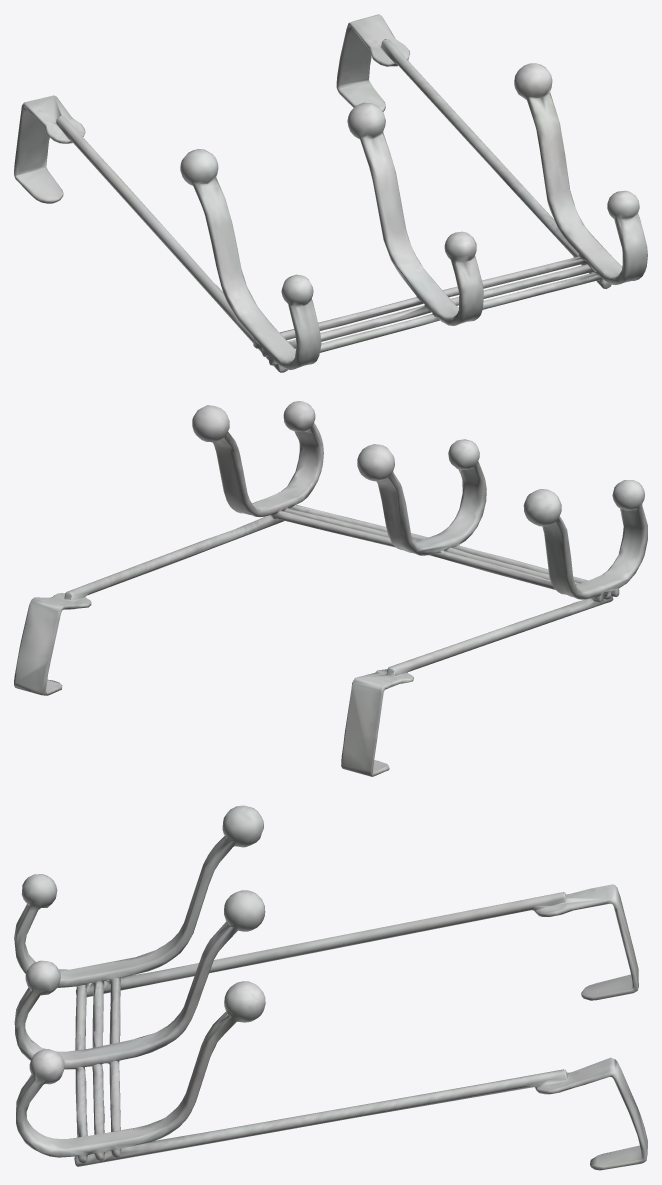
Rendered from InterDesign_Over_Door-high.glb.
3 views of the same model, one above another, from view 1: azimuth 30°, elevation 25°; view 2: azimuth 150°, elevation 25°; view 3: azimuth 270°, elevation 25° (orthographic). The views are drawn at different scales.
Parts seen in each view (by area): view 1: InterDesign_Over_Door; view 2: InterDesign_Over_Door; view 3: InterDesign_Over_Door.
Boxes of the visible parts, bbox=[...] form: InterDesign_Over_Door: bbox=[14, 14, 647, 372]; InterDesign_Over_Door: bbox=[14, 401, 647, 776]; InterDesign_Over_Door: bbox=[14, 805, 647, 1170].
Size of the model in its own units: 0.2151 by 0.097 by 0.2912.
Materials: 1 (1 with a texture image).
